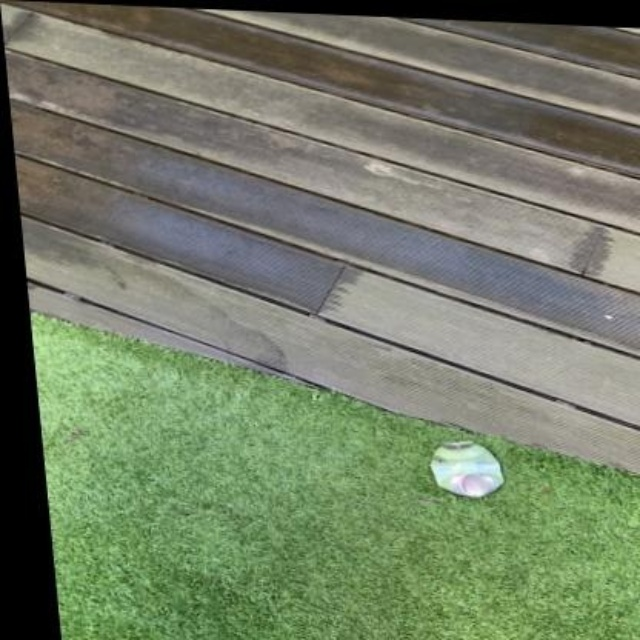trash: (431, 442, 502, 495)
